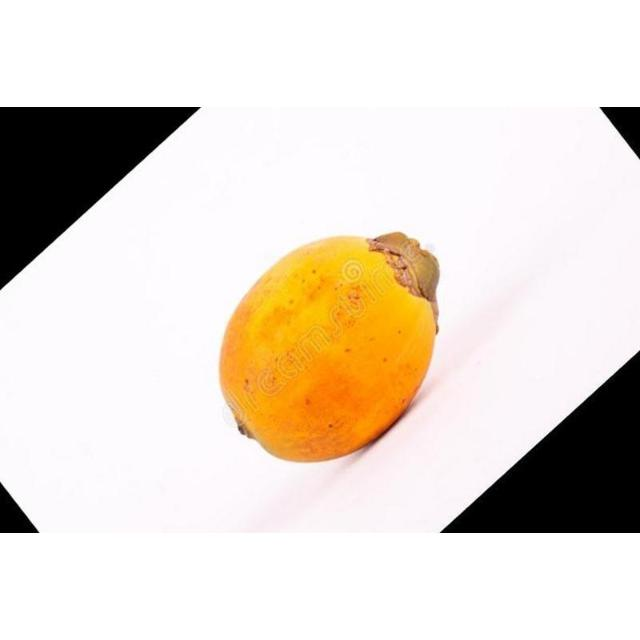good: (217, 234, 438, 465)
